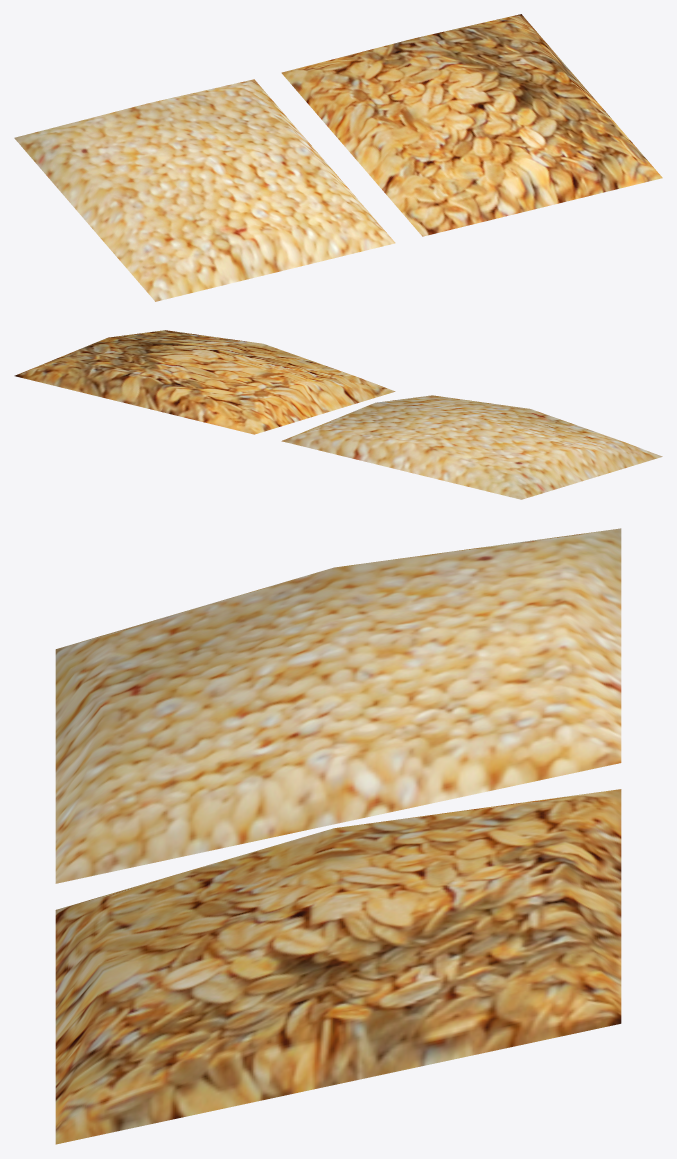
Rendered from grains-02.fbx.
The picture shows the model from 3 angles, top to bottom: view 1: azimuth 30°, elevation 25°; view 2: azimuth 150°, elevation 25°; view 3: azimuth 270°, elevation 25°; orthographic projection. The views are drawn at different scales.
Visible parts, largest first — view 1: Cube.009_Cube.003_Cube.009_Cube.001; view 2: Cube.009_Cube.003_Cube.009_Cube.001; view 3: Cube.009_Cube.003_Cube.009_Cube.001.
Part boxes in pixels (<box>): Cube.009_Cube.003_Cube.009_Cube.001: <box>14,14,662,301</box>; Cube.009_Cube.003_Cube.009_Cube.001: <box>14,330,662,499</box>; Cube.009_Cube.003_Cube.009_Cube.001: <box>55,528,621,1144</box>.
Bounding box in the file's own units: 1.51 × 0.2166 × 0.729.
